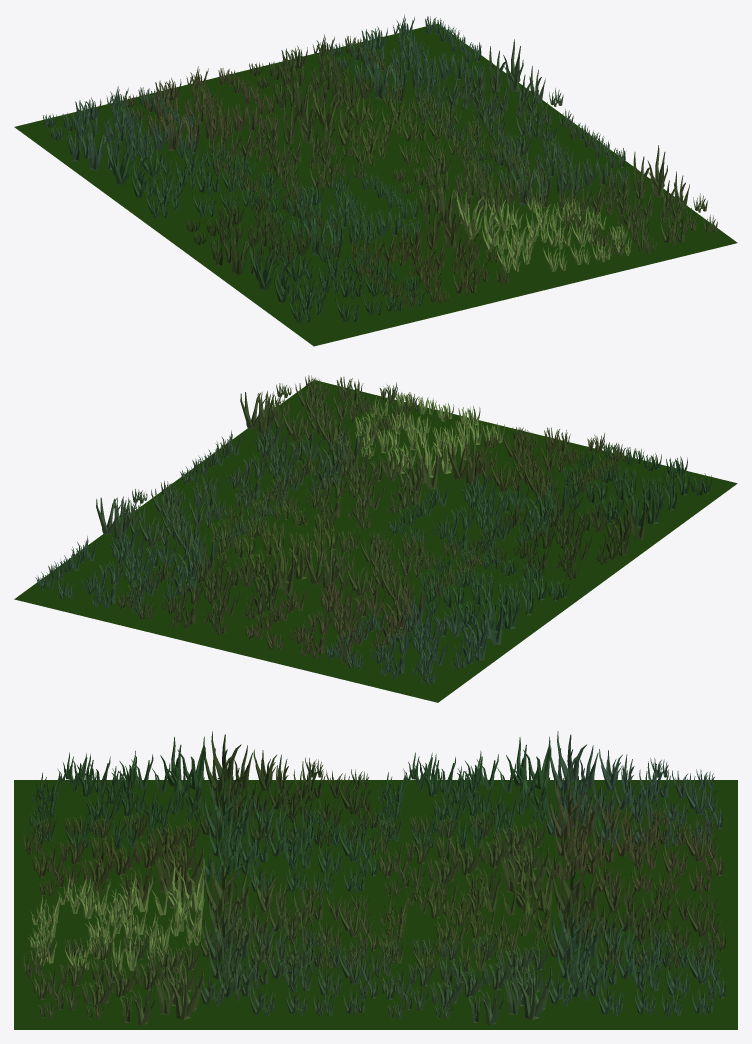
File: grass.fbx
3 renders of one model, top to bottom at view 1: azimuth 30°, elevation 25°; view 2: azimuth 150°, elevation 25°; view 3: azimuth 270°, elevation 25°, orthographic. The views are drawn at different scales.
Visible parts, largest first — view 1: Plane, GRASS.001, GRASS.002, GRASS.003, GRASS.004, GRASS; view 2: Plane, GRASS.002, GRASS.003, GRASS.001, GRASS.004, GRASS; view 3: Plane, GRASS.003, GRASS.001, GRASS.002, GRASS.004, GRASS.
Boxes of the visible parts, x1=… form: Plane: x1=14, y1=23, x2=737, y2=346; GRASS.001: x1=186, y1=171, x2=510, y2=323; GRASS.002: x1=43, y1=66, x2=366, y2=218; GRASS.003: x1=249, y1=14, x2=573, y2=166; GRASS.004: x1=393, y1=120, x2=717, y2=256; GRASS: x1=456, y1=191, x2=632, y2=272; Plane: x1=14, y1=380, x2=737, y2=702; GRASS.002: x1=244, y1=531, x2=569, y2=684; GRASS.003: x1=35, y1=481, x2=360, y2=635; GRASS.001: x1=387, y1=426, x2=712, y2=580; GRASS.004: x1=180, y1=375, x2=443, y2=529; GRASS: x1=335, y1=392, x2=504, y2=477; Plane: x1=14, y1=780, x2=737, y2=1029; GRASS.003: x1=372, y1=853, x2=726, y2=1025; GRASS.001: x1=23, y1=731, x2=377, y2=903; GRASS.002: x1=369, y1=731, x2=723, y2=902; GRASS.004: x1=23, y1=853, x2=377, y2=1025; GRASS: x1=28, y1=859, x2=204, y2=971.
Bounding box in the file's own units: 3009 × 292 × 3669.
